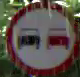No overtake: (7, 0, 79, 76)
